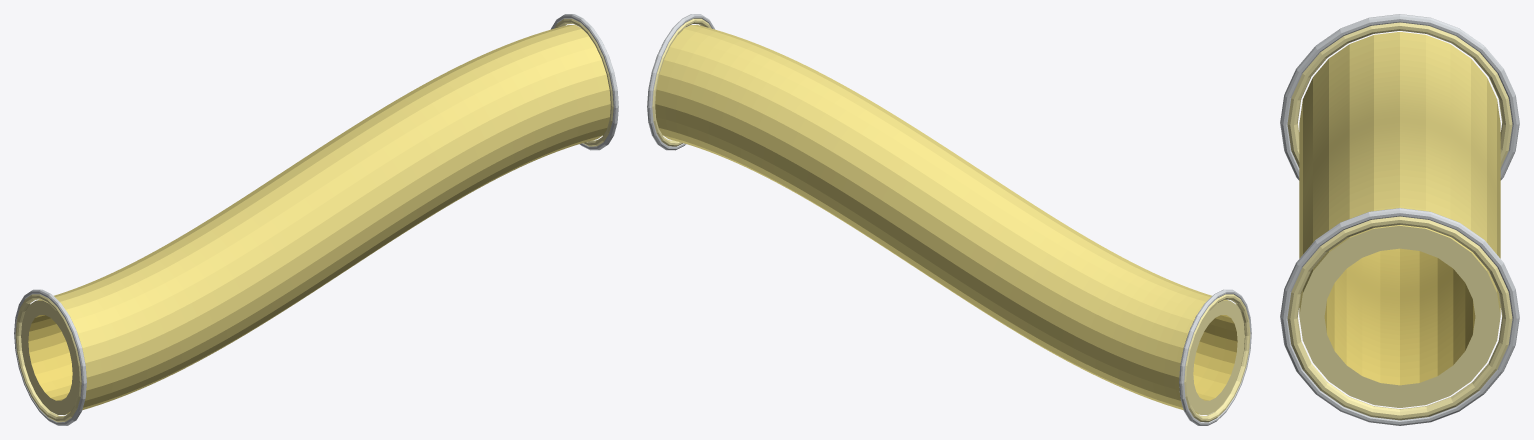
Rendered from PGK_Slide_TubeDeck_2m.fbx.
3 views of the same model, side by side, from view 1: azimuth 30°, elevation 25°; view 2: azimuth 150°, elevation 25°; view 3: azimuth 270°, elevation 25° (orthographic). The views are drawn at different scales.
Parts seen in each view (by area): view 1: PGK_Slide_TubeDeck_2m; view 2: PGK_Slide_TubeDeck_2m; view 3: PGK_Slide_TubeDeck_2m.
Part boxes in pixels (<box>): PGK_Slide_TubeDeck_2m: <box>14,14,618,425</box>; PGK_Slide_TubeDeck_2m: <box>647,14,1251,425</box>; PGK_Slide_TubeDeck_2m: <box>1280,14,1519,425</box>.
Size of the model in its own units: 5.05 by 2.45 by 1.14.
